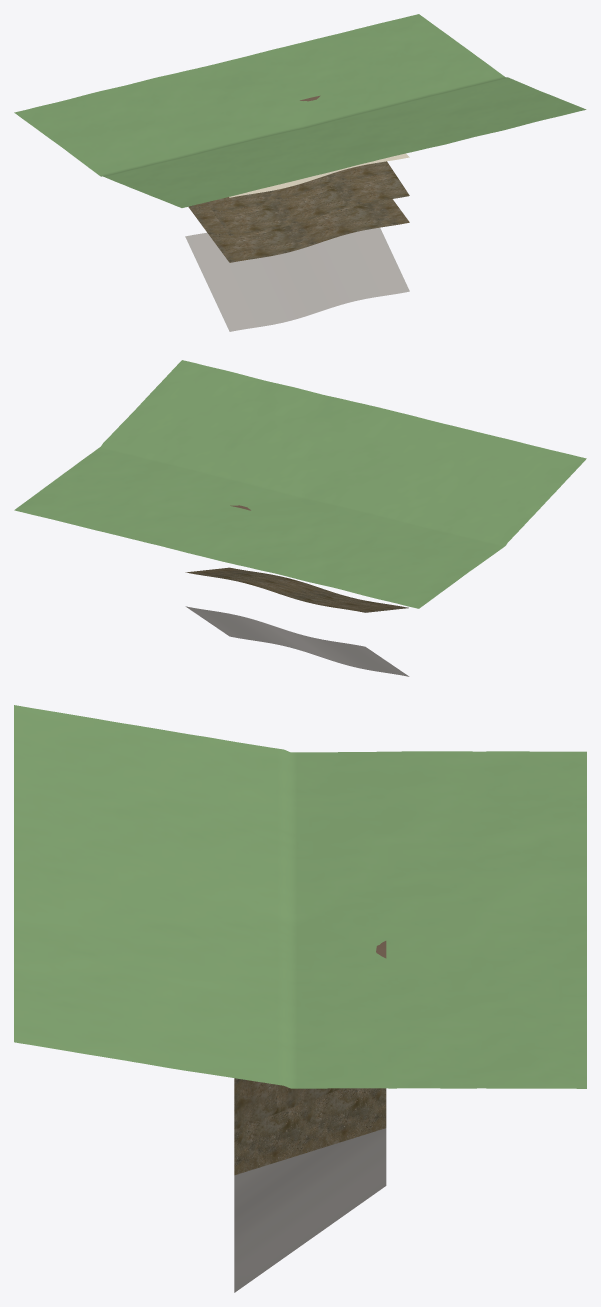
The model's file is soil-profile.glb.
3 renders of one model, top to bottom at view 1: azimuth 30°, elevation 25°; view 2: azimuth 150°, elevation 25°; view 3: azimuth 270°, elevation 25°, orthographic. The views are drawn at different scales.
Parts seen in each view (by area): view 1: Hillside, Horizon_R, Horizon_B, Horizon_C, Horizon_E; view 2: Hillside, Horizon_R, Horizon_C; view 3: Hillside, Horizon_R, Horizon_C, Horizon_B.
Boxes of the visible parts, left/top/right/bottom form: Hillside: left=14, top=14, right=586, bottom=207; Horizon_R: left=185, top=227, right=409, bottom=331; Horizon_B: left=207, top=161, right=409, bottom=236; Horizon_C: left=188, top=199, right=409, bottom=262; Horizon_E: left=229, top=153, right=409, bottom=197; Hillside: left=14, top=360, right=586, bottom=608; Horizon_R: left=185, top=606, right=409, bottom=676; Horizon_C: left=185, top=567, right=408, bottom=612; Hillside: left=14, top=705, right=586, bottom=1088; Horizon_R: left=234, top=1128, right=386, bottom=1292; Horizon_C: left=234, top=1088, right=386, bottom=1175; Horizon_B: left=234, top=1078, right=341, bottom=1129.
Size of the model in its own units: 6.4 by 3.06 by 4.6.
7 materials, 3 textured.
